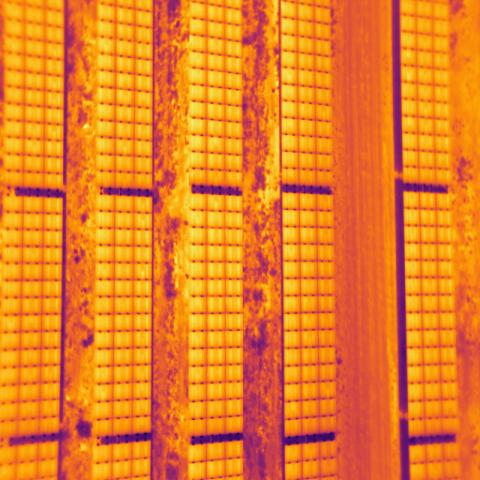fault: (93, 384, 114, 402), (189, 34, 207, 52)
